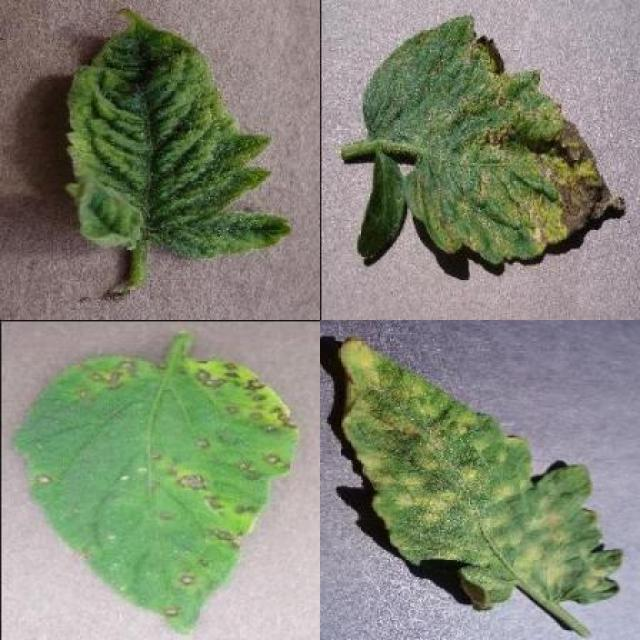Leaf Mold: (339, 336, 625, 611)
Septoria: (13, 355, 296, 634), (356, 18, 624, 266)
Yellow Leaf Curl Virus: (67, 6, 292, 261)
